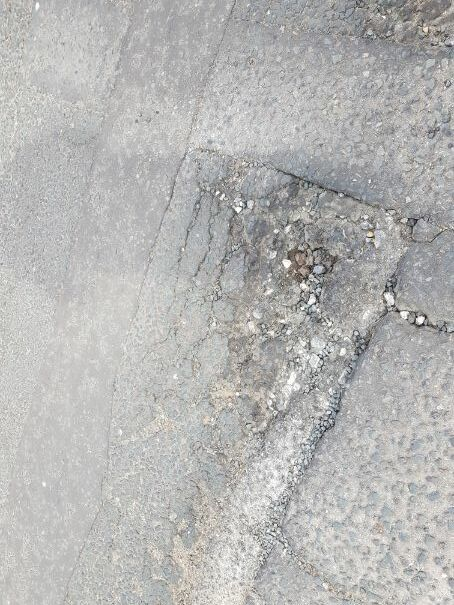pothole: (195, 152, 433, 472)
